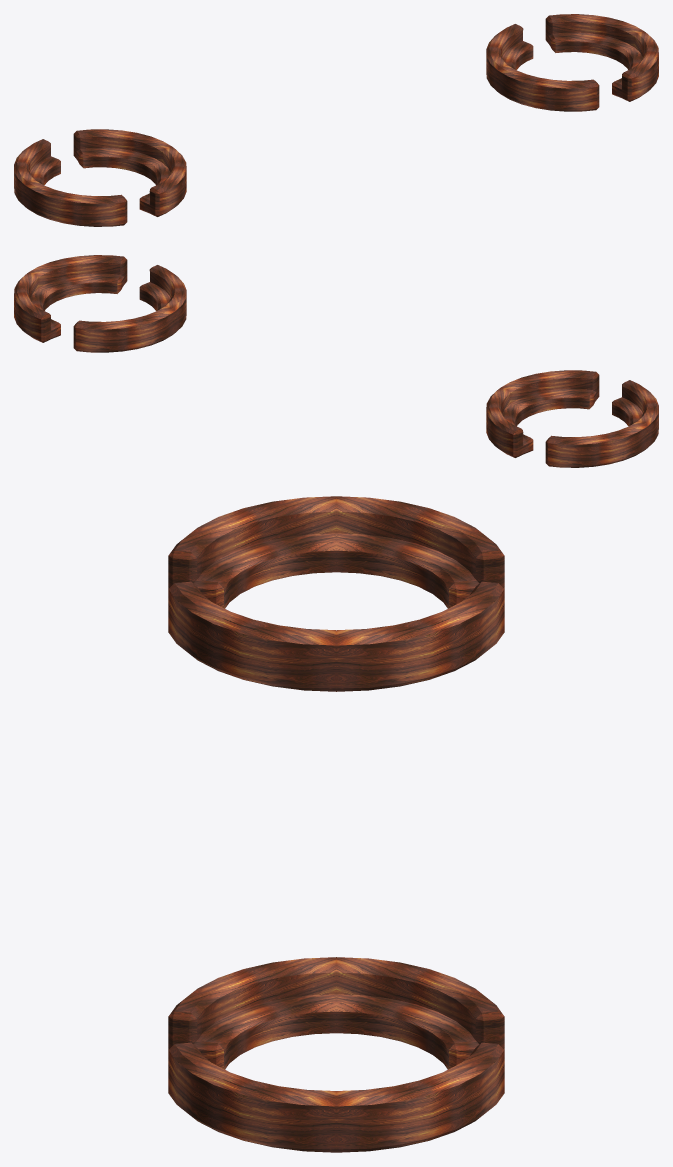
Rendered from guest_sofa.glb.
3 renders of one model, top to bottom at view 1: azimuth 30°, elevation 25°; view 2: azimuth 150°, elevation 25°; view 3: azimuth 270°, elevation 25°, orthographic. The views are drawn at different scales.
Visible parts, largest first — view 1: Guest Sofa; view 2: Guest Sofa; view 3: Guest Sofa.
Boxes of the visible parts, bbox=[...] form: Guest Sofa: bbox=[14, 14, 658, 226]; Guest Sofa: bbox=[14, 255, 658, 467]; Guest Sofa: bbox=[168, 496, 504, 1152].
Size of what is drawn, in the model's own units: 28.83 by 1.21 by 6.74.
Materials: 1 (1 with a texture image).
